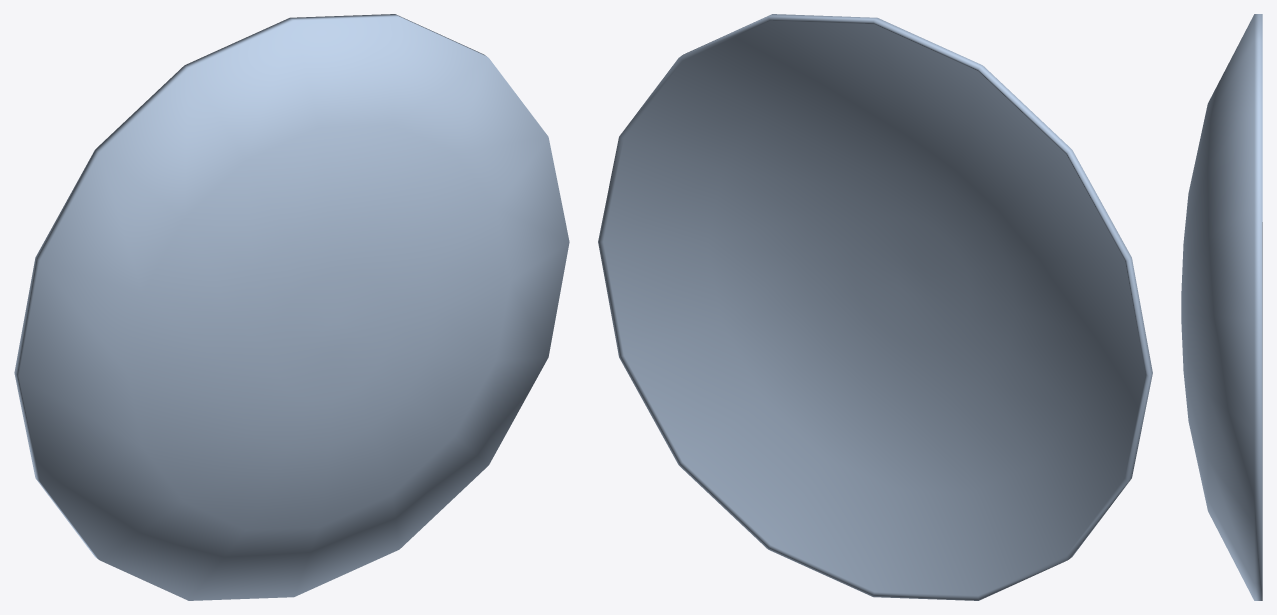
The model's file is Space station Port1.fbx.
The picture shows the model from 3 angles, left to right: view 1: azimuth 30°, elevation 25°; view 2: azimuth 150°, elevation 25°; view 3: azimuth 270°, elevation 25°; orthographic projection. The views are drawn at different scales.
Visible parts, largest first — view 1: Porthole; view 2: Porthole; view 3: Porthole.
Part boxes in pixels (box(x1,y1,x2,y2)): Porthole: box(14, 14, 569, 600); Porthole: box(598, 14, 1152, 600); Porthole: box(1181, 14, 1262, 600).
Size of the model in its own units: 53.18 by 53.18 by 7.36.
